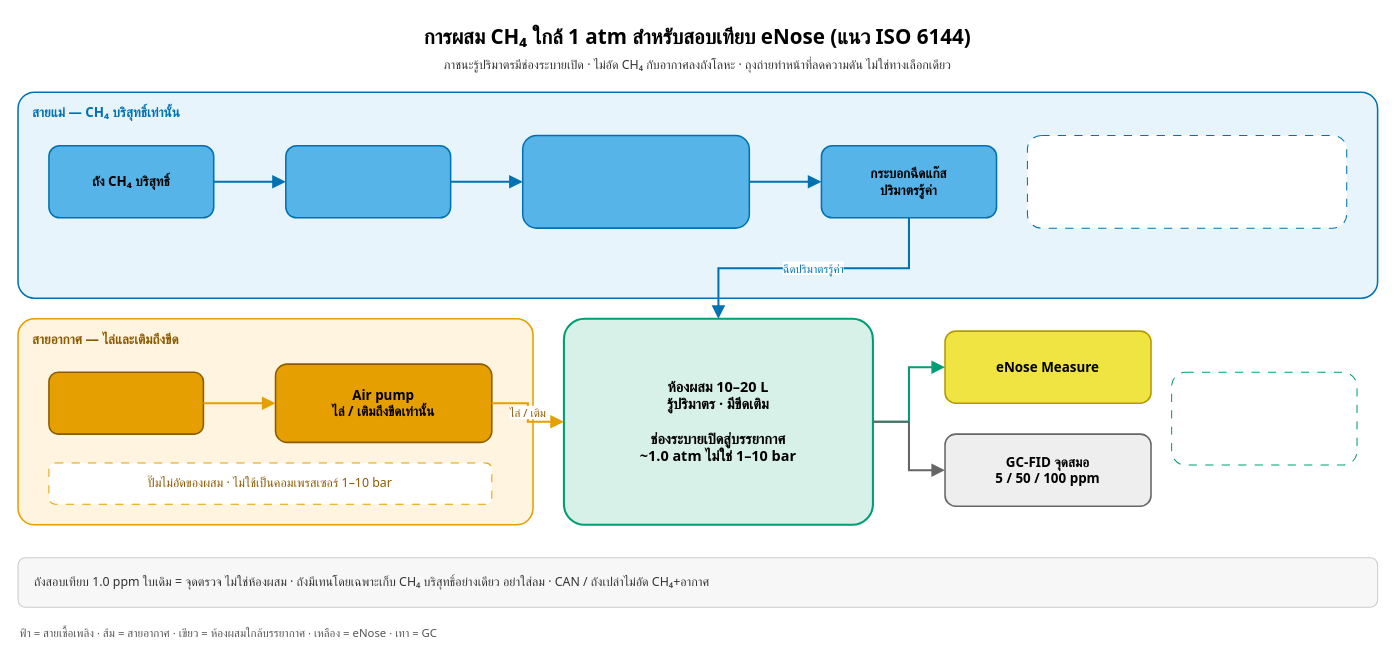
The diagram is 1397 pixels wide and 661 high, and some of its shapes have lost their labels. The shapes that lost their labels are listed below. From the top down, each one's centre as x and y in pixels, then its label:
At point (368, 181): "เรกูเลเตอร์มีเทน".
At point (635, 181): "จุดพัก ~1 atm (ถุงถ่าย หรือเซปตัมหลังเรกูเลเตอร์)".
At point (1186, 181): "ห้ามดูดจากวาล์วถังความดันสูง ตัดถุงถ่ายได้ ถ้ายังลดความดันลงใกล้ 1 atm ก่อนตวง".
At point (126, 402): "อากาศห้อง".
At point (1264, 418): "จ่ายของผสมที่ ~1 atm".
